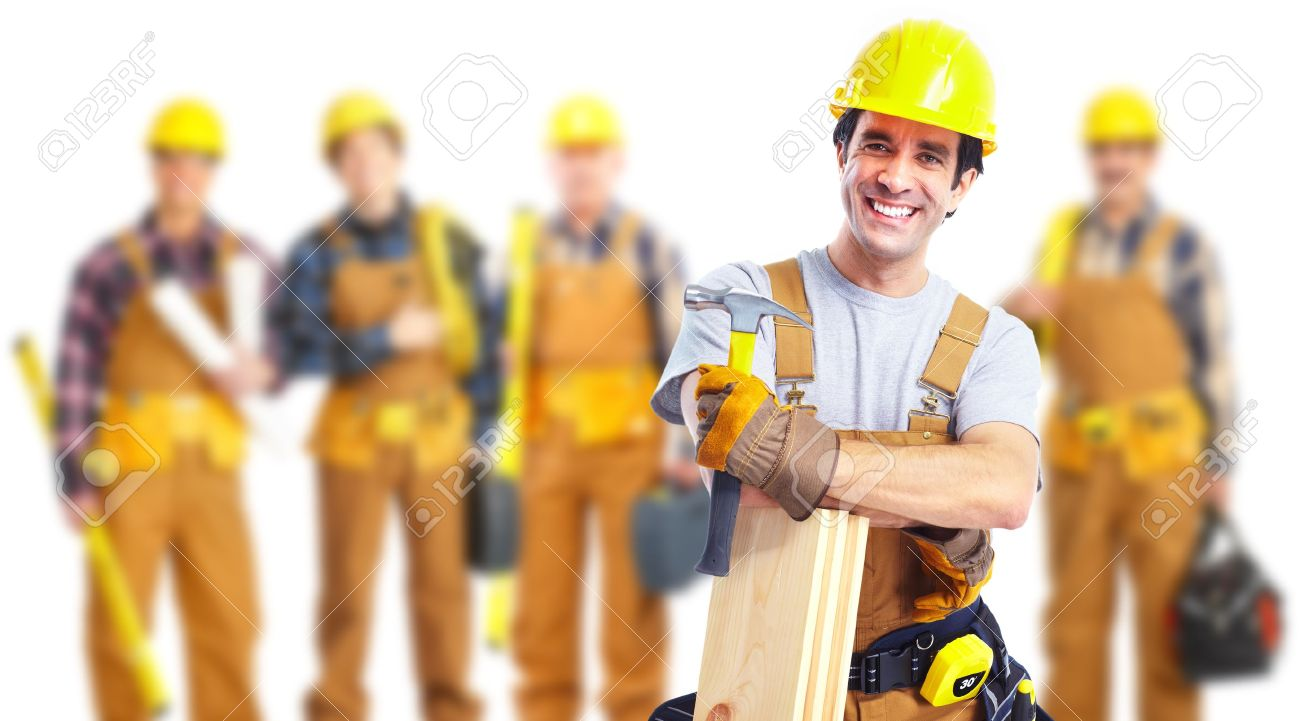Person_wearing_helmet: (843, 18, 1000, 170)
